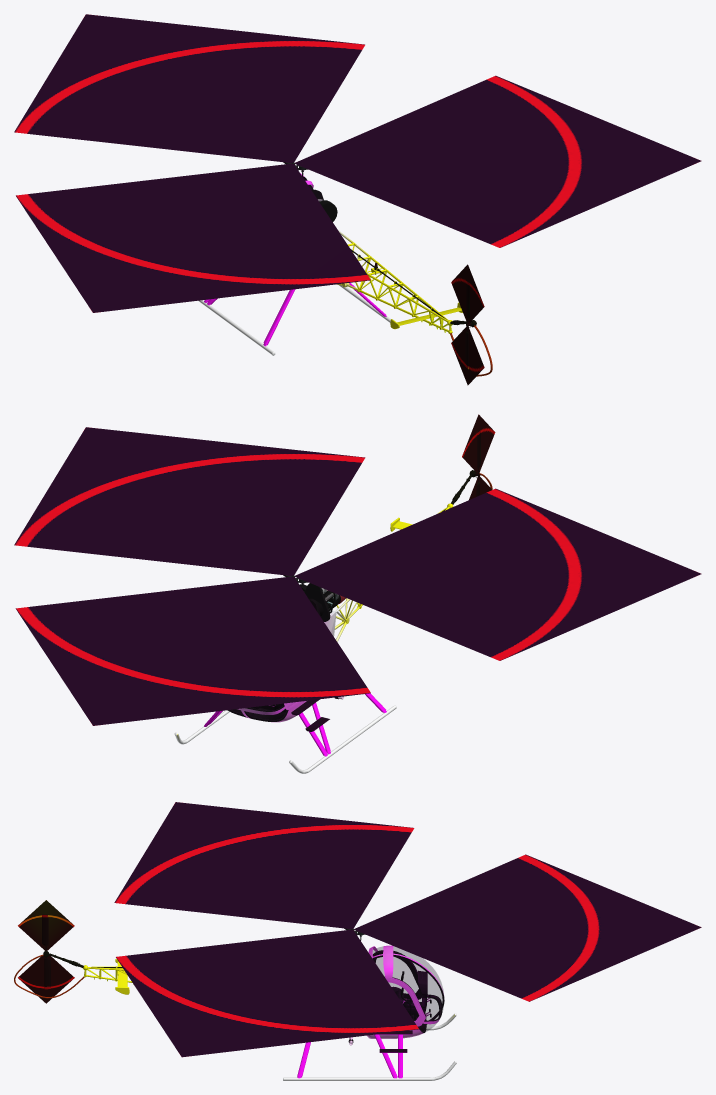
Rendered from seasparrow2.glb.
The picture shows the model from 3 angles, top to bottom: view 1: azimuth 30°, elevation 25°; view 2: azimuth 150°, elevation 25°; view 3: azimuth 270°, elevation 25°; orthographic projection. The views are drawn at different scales.
Visible parts, largest first — view 1: rotor_main_fast, tail, rotor_rear_fast, bodyshell; view 2: rotor_main_fast, bodyshell, rotor_rear_fast, chassis, tail; view 3: rotor_main_fast, rotor_rear_fast, bodyshell, windscreen, chassis, tail, rotor_rear_slow.
Part boxes in pixels (x1,y1,x2,y2): rotor_main_fast: (14, 14, 701, 312); tail: (346, 244, 492, 376); rotor_rear_fast: (451, 264, 484, 385); bodyshell: (198, 173, 390, 355); rotor_main_fast: (14, 427, 701, 725); bodyshell: (174, 583, 396, 773); rotor_rear_fast: (462, 414, 495, 499); chassis: (227, 703, 288, 721); tail: (345, 470, 492, 618); rotor_main_fast: (114, 802, 701, 1057); rotor_rear_fast: (18, 900, 74, 1003); bodyshell: (283, 945, 456, 1080); windscreen: (393, 946, 443, 1020); chassis: (372, 950, 444, 1032); tail: (14, 951, 133, 998); rotor_rear_slow: (42, 914, 50, 989).
Bounding box in the file's own units: 12.45 × 3.49 × 14.17.
Materials: 11 (11 with a texture image).
